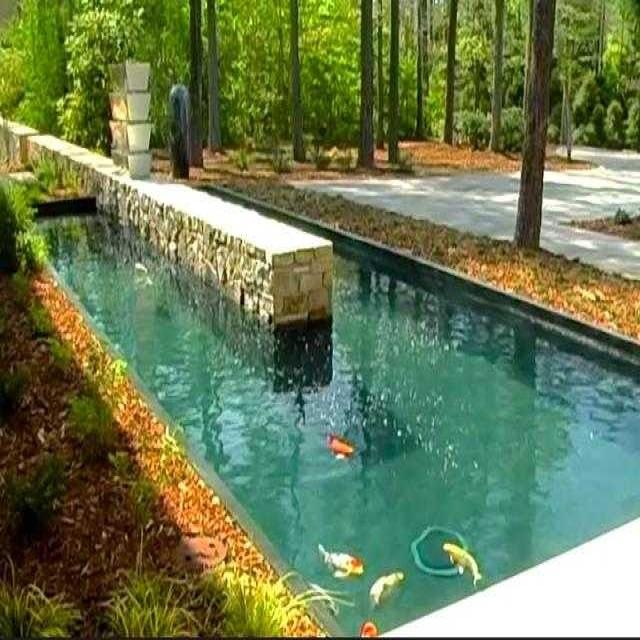Ponds: (1, 176, 640, 640)
